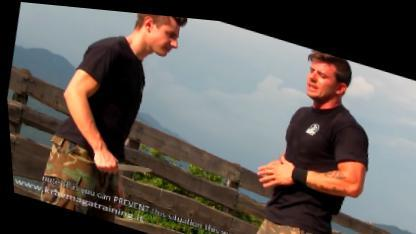knife: (83, 144, 154, 186)
